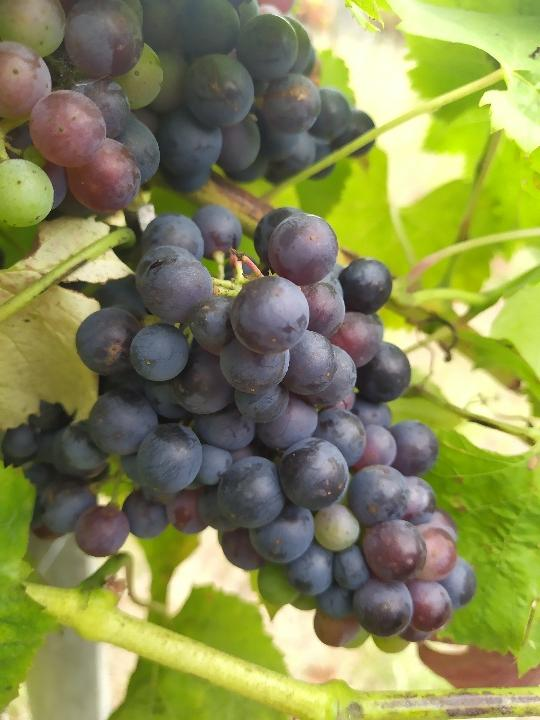grape: (71, 201, 475, 657)
